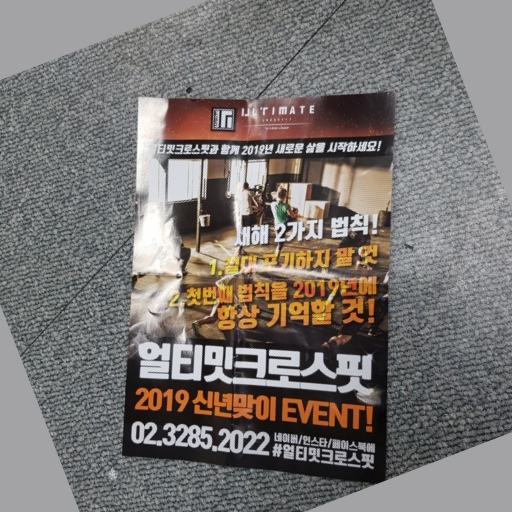Paper_2: (111, 85, 414, 485)
